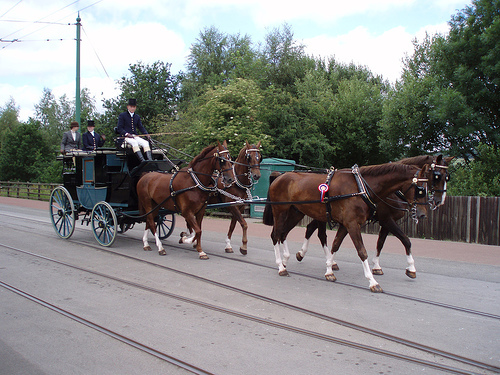horse: (266, 158, 433, 293), (297, 150, 458, 275), (136, 141, 238, 260), (199, 140, 262, 256)
